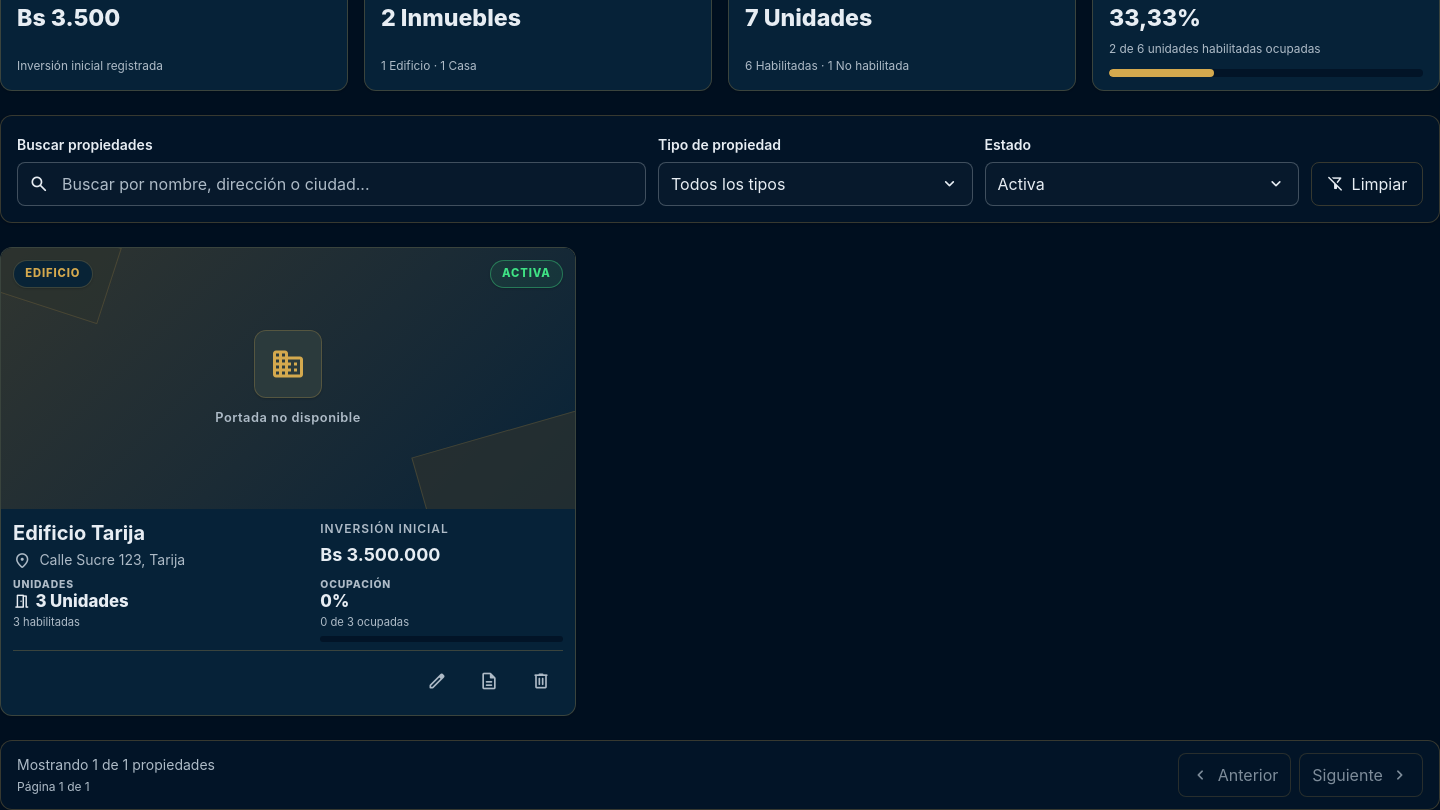
Scenario: PropiedadesListComponent › deactivates a property after confirmation and refreshes the list and summary
(page scrolled)
Click the button named "Desactivar propiedad" at [541, 681], box x1=519 y1=659 x2=563 y2=703
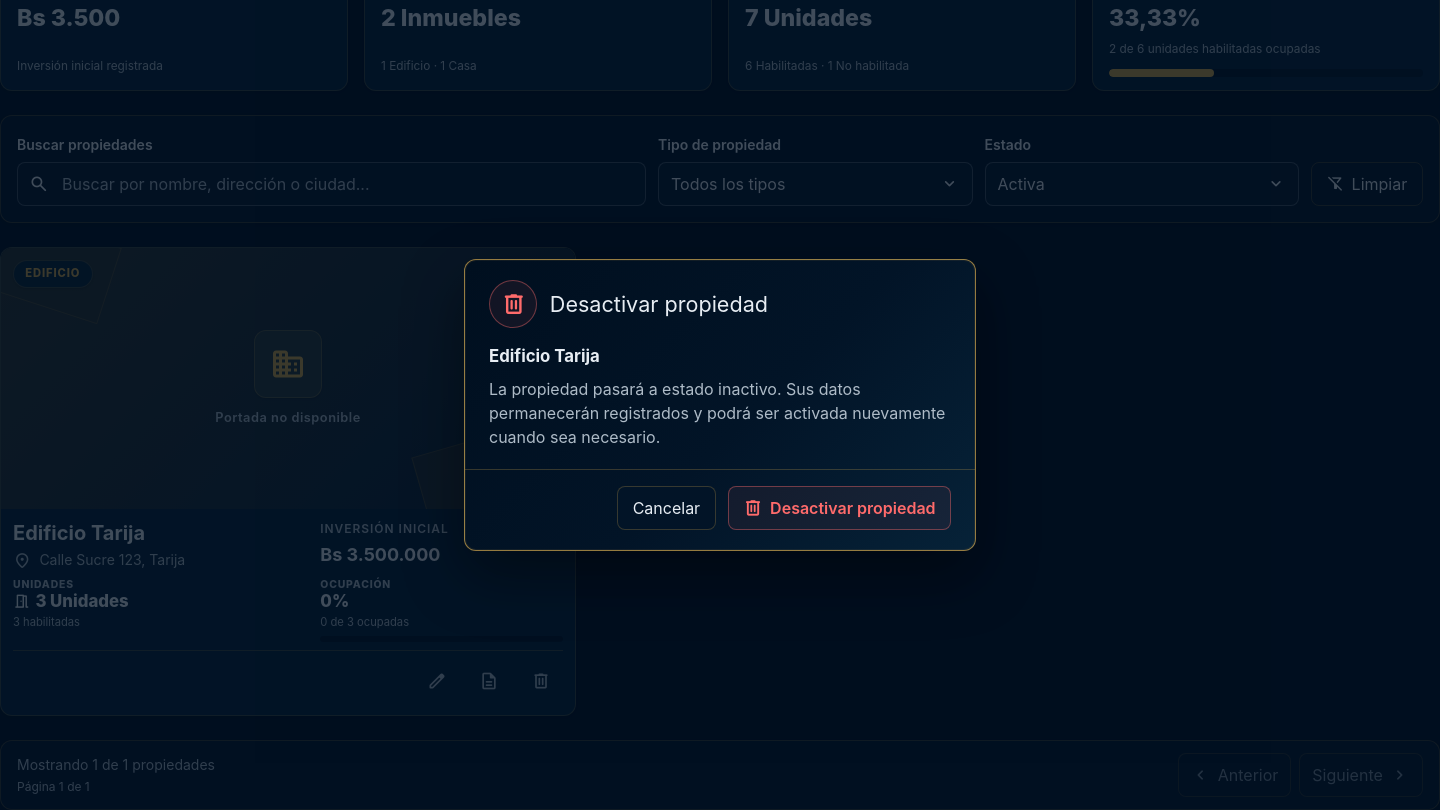
Click the button with class "confirm-button" at [839, 508], box x1=728 y1=486 x2=951 y2=530
(page scrolled)
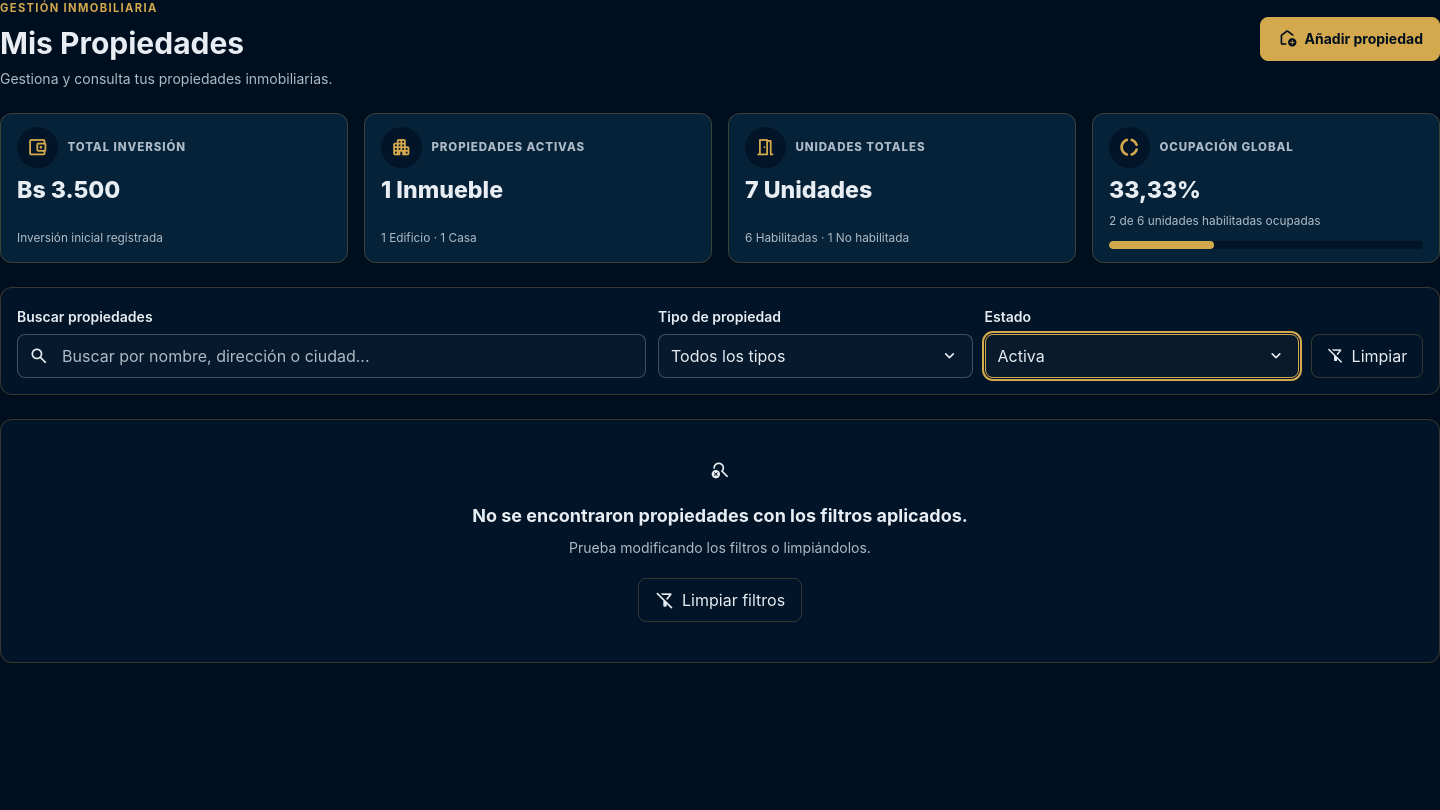
Now the dialog is gone
Now the text "No se encontraron propiedades con los filtros aplicados." is shown, box x1=472 y1=505 x2=968 y2=526
